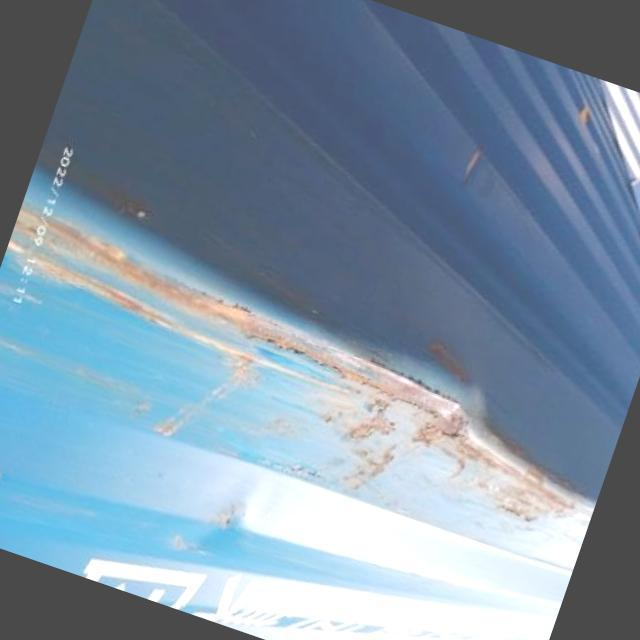rust: (6, 238, 606, 542)
